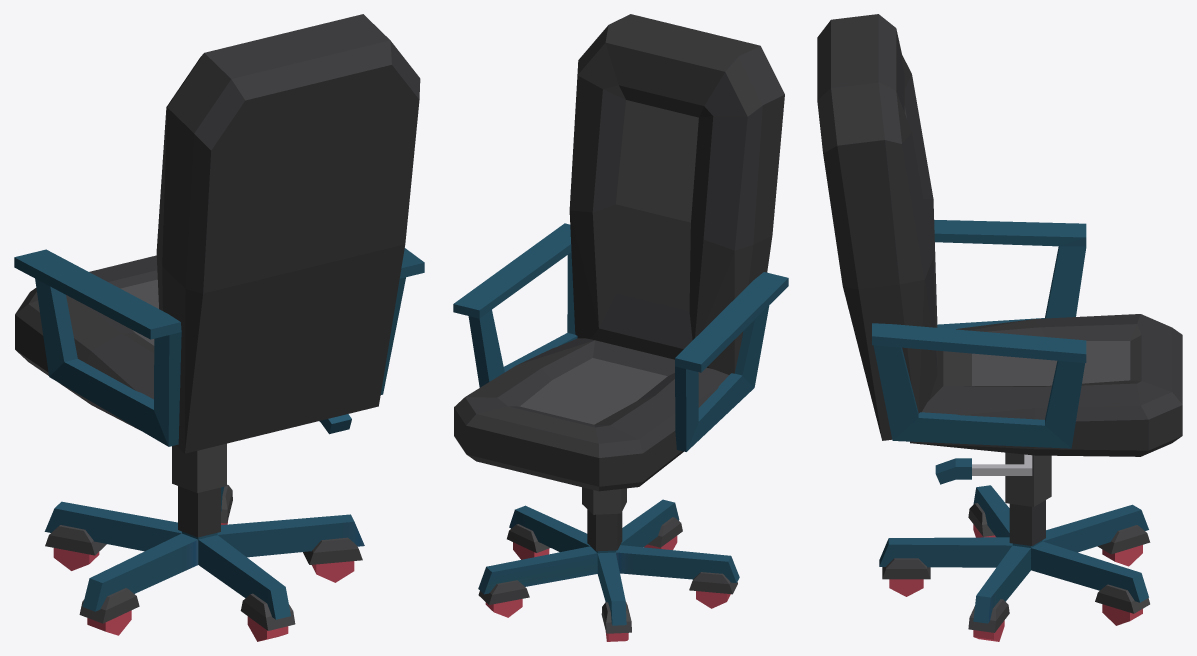
3 views of the same model, side by side, from view 1: azimuth 30°, elevation 25°; view 2: azimuth 150°, elevation 25°; view 3: azimuth 270°, elevation 25° (orthographic). The views are drawn at different scales.
Parts seen in each view (by area): view 1: mesh_chair_01; view 2: mesh_chair_01; view 3: mesh_chair_01.
Part boxes in pixels (x1,y1,x2,y2): mesh_chair_01: [14, 14, 424, 641]; mesh_chair_01: [453, 14, 788, 641]; mesh_chair_01: [817, 14, 1182, 641].
Size of the model in its own units: 0.6916 by 1.34 by 0.818.
1 material, 1 textured.
